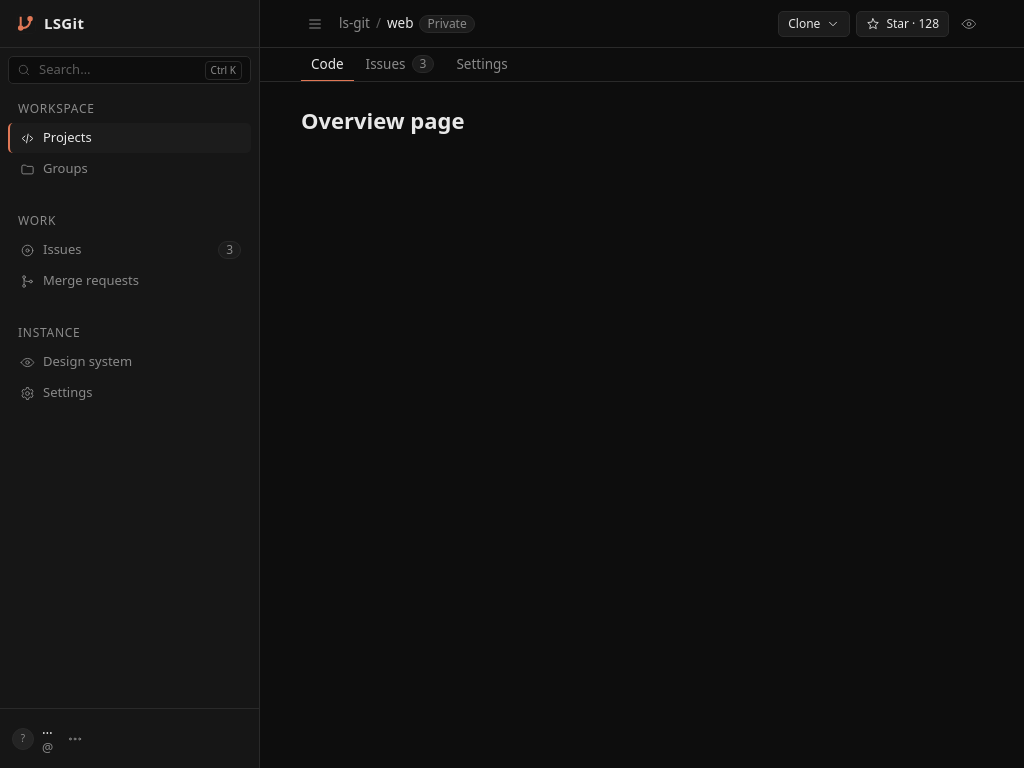
Test case: AppShell › navigates via sidebar and repo context tabs
The image size is (1024, 768).
Step 1. Click the tab "Issues 3" → (400, 65), box [356,48,444,82]
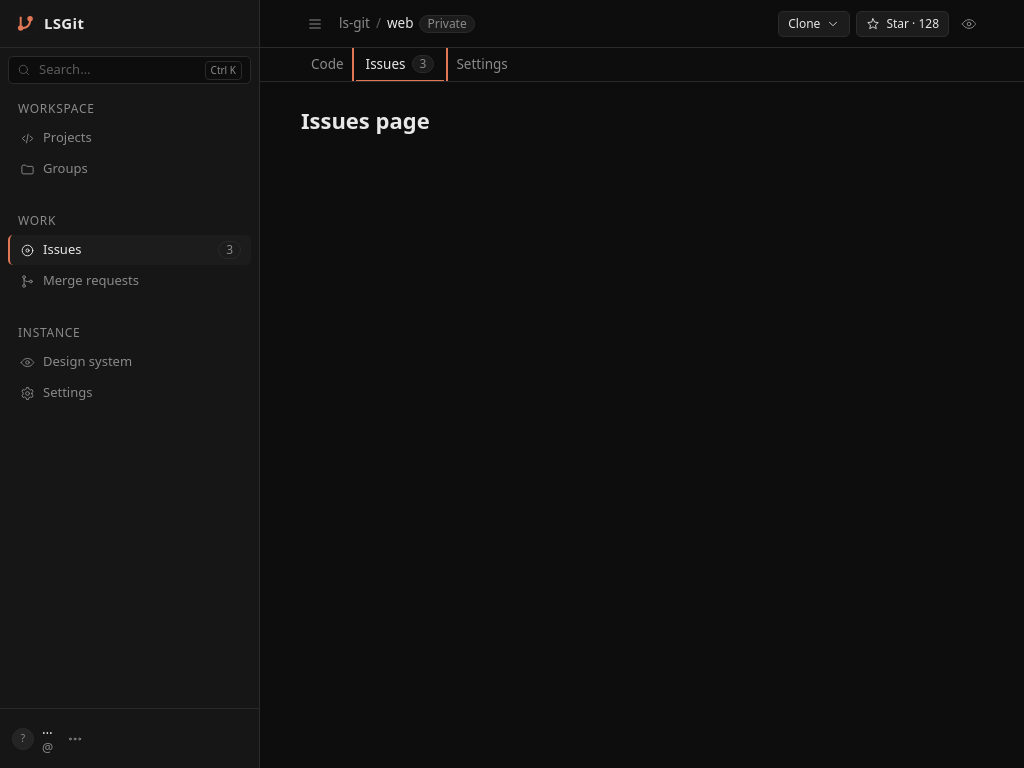
Expected: the heading "Issues page" is shown, [301,105,430,135]
Step 2. Click the tab "Settings" → (482, 65), box [446,48,518,82]
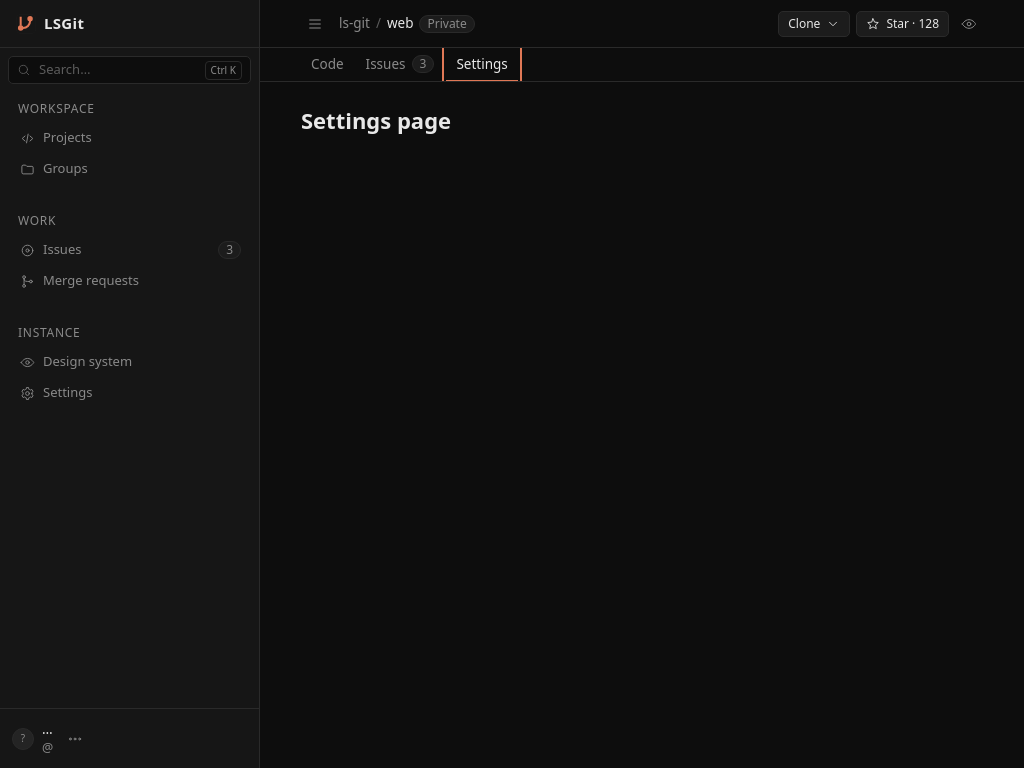
Expected: the heading "Settings page" is shown, [301,105,451,135]
